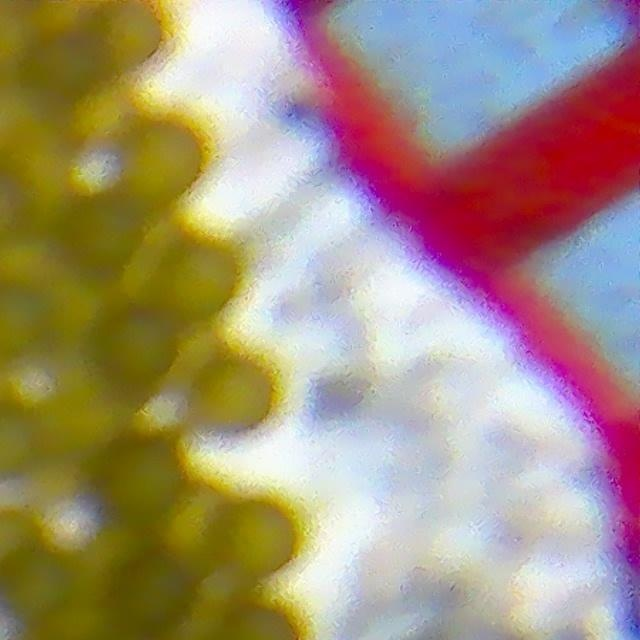SeaGrape: (103, 118, 203, 214), (94, 435, 180, 524), (156, 242, 239, 326), (58, 193, 141, 275), (189, 352, 270, 433), (14, 37, 100, 113), (215, 501, 297, 575), (116, 554, 193, 632), (106, 312, 181, 389), (160, 485, 227, 571), (43, 268, 117, 343), (0, 545, 71, 620), (99, 0, 170, 72), (0, 284, 50, 365), (0, 231, 60, 296), (194, 560, 254, 620), (71, 85, 129, 143), (172, 325, 227, 379), (51, 597, 115, 640)
